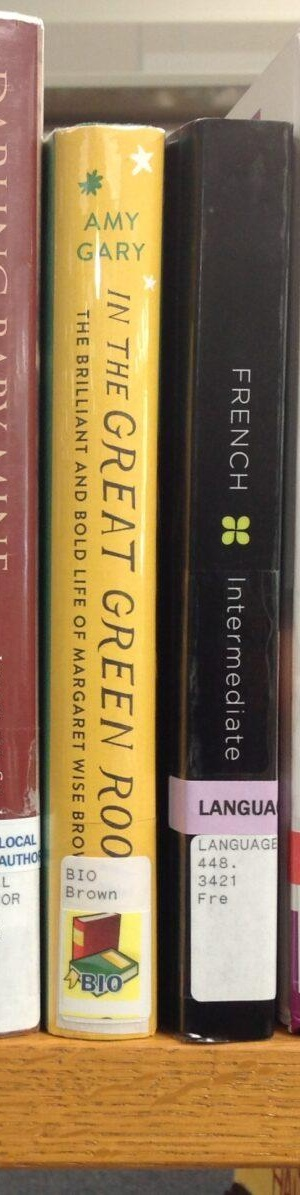call_number: (59, 857, 154, 1036), (190, 835, 279, 1002)
